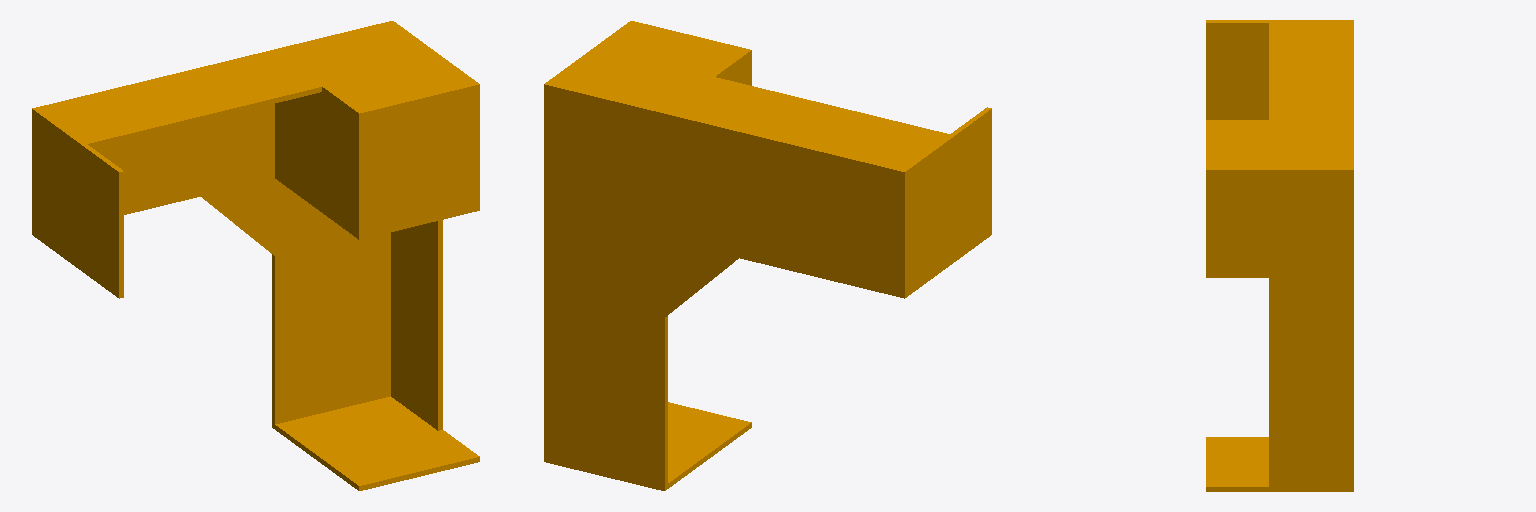
robot.urdf — officedesk:
<robot name="officedesk">
  <link name="officedesk_base_link">
    <contact>
      <lateral_friction value="0.5"/>
      <rolling_friction value="0.5"/>
      <contact_cfm value="0.0"/>
      <contact_erp value="1.0"/>
    </contact>
    <inertial>
      <origin rpy="0 0 0" xyz="0 0 0"/>
      <mass value="0"/>
      <inertia ixx="0" ixy="0" ixz="0" iyy="0" iyz="0" izz="0"/>
    </inertial>
    <visual>
      <origin rpy="0 0 0" xyz="0 -0.105 0"/>
      <geometry>
        <mesh filename="officedesk.obj" scale="1 1 1"/>
      </geometry>
    </visual>
    <collision>
      <origin rpy="0 0 0" xyz="0 0 0"/>
      <geometry>
        <box size="1.2 .05 1.4"/>
      </geometry>
    </collision>
  </link>
</robot>

--- Render facts (derived) ---
Views: 3 orthographic renders of the robot side by side, from view 1: azimuth 30°, elevation 25°; view 2: azimuth 150°, elevation 25°; view 3: azimuth 270°, elevation 25°.
Robot: officedesk — 1 links, 0 joints (none); root link officedesk_base_link; default pose: all joints at 0.
Links seen in each view (by area): view 1: officedesk_base_link; view 2: officedesk_base_link; view 3: officedesk_base_link.
Link boxes in pixels (left/top/right/bottom): officedesk_base_link: left=32, top=21, right=479, bottom=490; officedesk_base_link: left=544, top=21, right=991, bottom=490; officedesk_base_link: left=1206, top=20, right=1353, bottom=491.
Size in the robot's own frame: 0.6781 by 0.2835 by 0.6781 metres.
1 mesh visuals loaded from 1 distinct referenced files (1 OBJ).